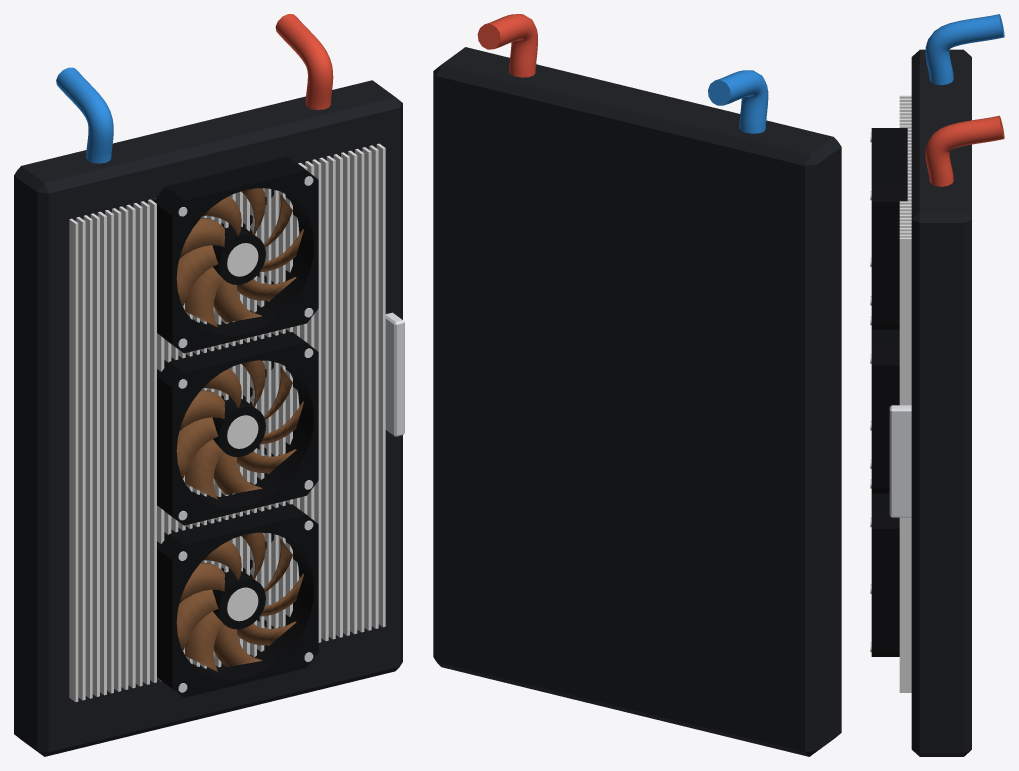
File: hw_cool_rear_door.glb
The picture shows the model from 3 angles, left to right: view 1: azimuth 30°, elevation 25°; view 2: azimuth 150°, elevation 25°; view 3: azimuth 270°, elevation 25°; orthographic projection. The views are drawn at different scales.
Visible parts, largest first — view 1: Body, Rotor_Z_0, Rotor_Z_1, Rotor_Z_2; view 2: Body; view 3: Body.
Part boxes in pixels (left/top/right/bottom): Body: left=14, top=14, right=404, bottom=756; Rotor_Z_0: left=176, top=532, right=303, bottom=671; Rotor_Z_1: left=176, top=360, right=303, bottom=499; Rotor_Z_2: left=176, top=188, right=303, bottom=327; Body: left=433, top=14, right=841, bottom=756; Body: left=870, top=14, right=1004, bottom=756.
Size of the model in its own units: 0.2 by 0.3358 by 0.067.
